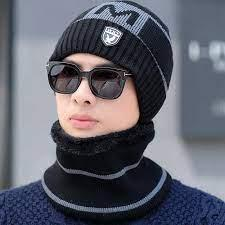cap: (51, 0, 182, 113)
scarf-kerchief: (40, 117, 169, 209)
sunglasses: (41, 54, 132, 104)
